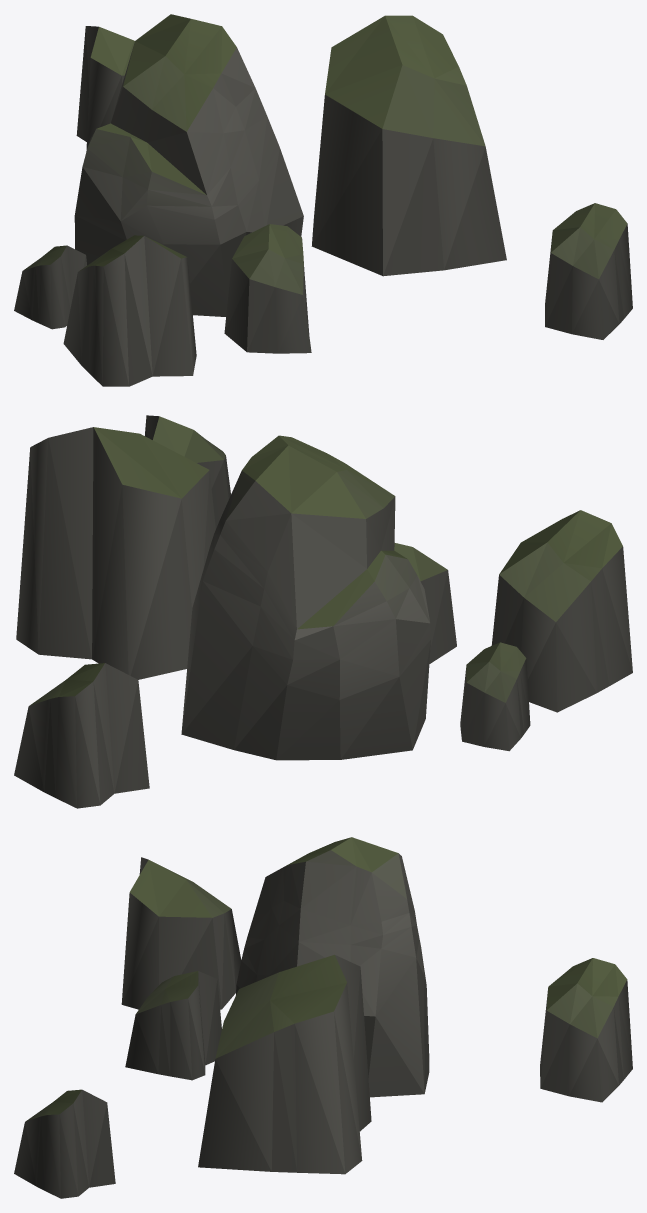
Rendered from batukecil.fbx.
The picture shows the model from 3 angles, top to bottom: view 1: azimuth 30°, elevation 25°; view 2: azimuth 150°, elevation 25°; view 3: azimuth 270°, elevation 25°; orthographic projection. The views are drawn at different scales.
Visible parts, largest first — view 1: batukecil; view 2: batukecil; view 3: batukecil.
Part boxes in pixels (x1,y1,x2,y2): batukecil: [14, 14, 632, 386]; batukecil: [14, 415, 632, 808]; batukecil: [14, 837, 632, 1198].
Bounding box in the file's own units: 2.55 × 1.23 × 3.
